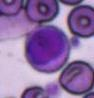M: (24, 24, 70, 74)
